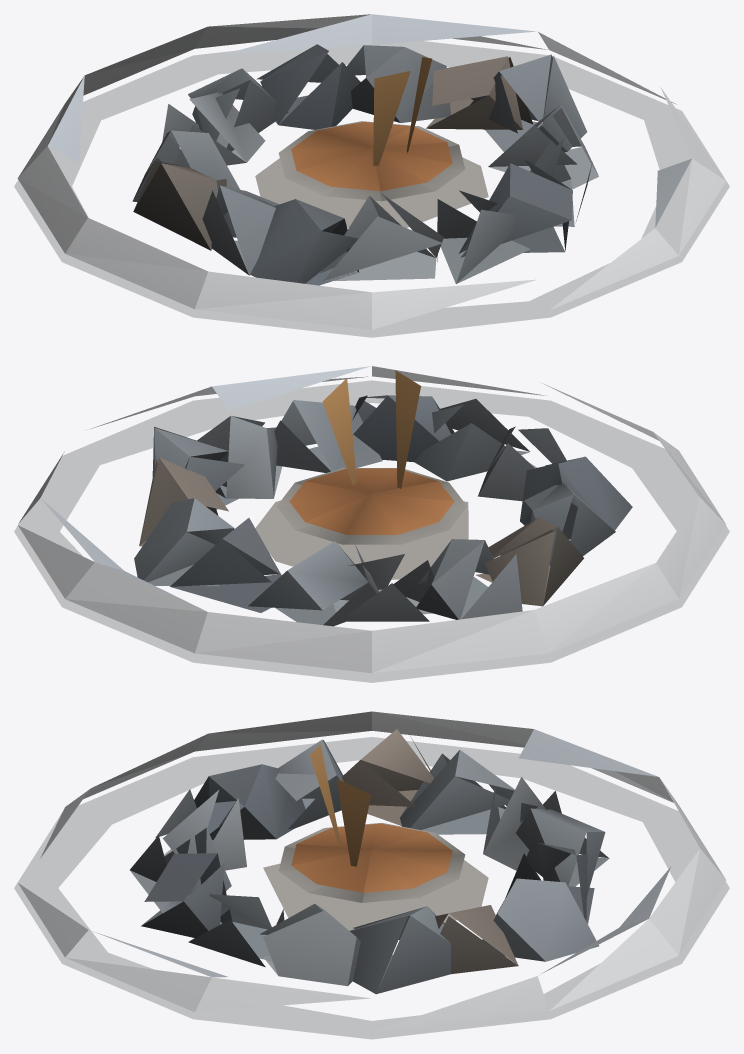
The model's file is firepit.lod.glb.
The picture shows the model from 3 angles, top to bottom: view 1: azimuth 30°, elevation 25°; view 2: azimuth 150°, elevation 25°; view 3: azimuth 270°, elevation 25°; orthographic projection.
Parts seen in each view (by area): view 1: firepit; view 2: firepit; view 3: firepit.
Part boxes in pixels (x1,y1,x2,y2): firepit: (14, 14, 729, 337); firepit: (14, 366, 729, 682); firepit: (14, 711, 729, 1039).
Bounding box in the file's own units: 2 × 0.4215 × 2.
